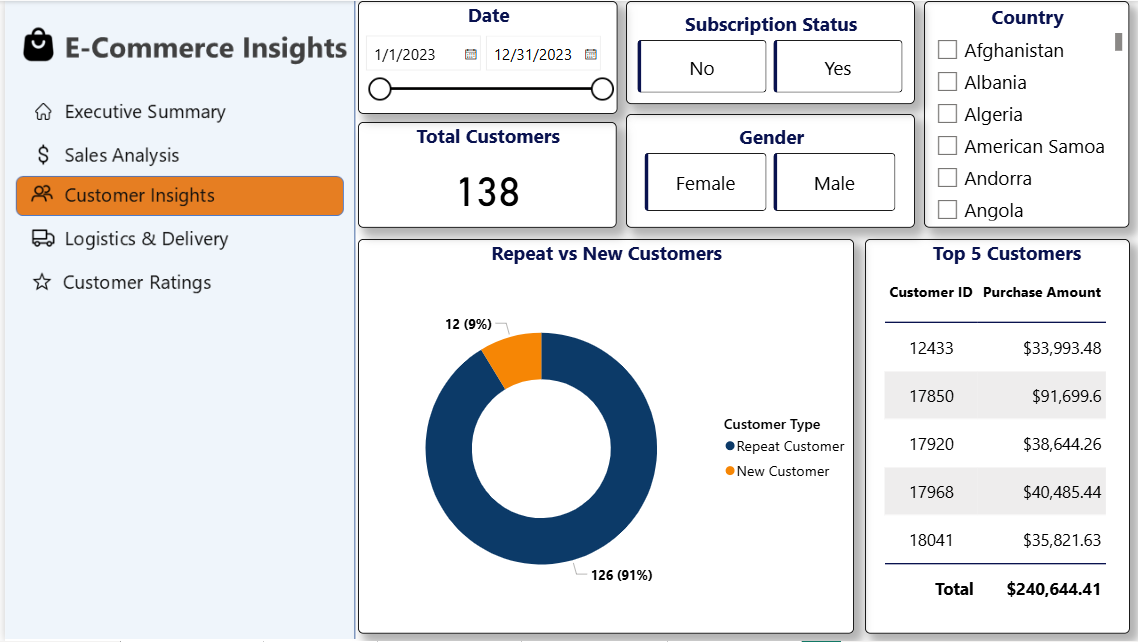

The page's visual inventory and layout, read from the dashboard file:
{"tool":"powerbi","page":{"name":"Customers Insights","canvas":[1280,720],"ordinal":2},"visuals":[{"type":"slicer","title":"Date ","fields":{"Values":["ecommerce sales.Date"]},"box":[397.3,0,291.8,127.3],"z":0},{"type":"tableEx","title":"Top 5 Customers","fields":{"Values":["ecommerce sales.customerid","ecommerce sales.total_revenue"]},"box":[967.5,267.5,297.5,443.8],"z":1000},{"type":"donutChart","title":"Repeat vs New Customers","fields":{"Y":["Customer Type.Customer Count"],"Category":["Customer Type.Type"]},"box":[397.5,267.5,557.5,443.8],"z":2000},{"type":"card","title":"Total Customers","fields":{"Values":["Count(ecommerce sales.customerid)"]},"box":[397.3,136.4,290.9,119.1],"z":3000},{"type":"actionButton","box":[18.8,146.2,353.8,50],"z":4000},{"type":"actionButton","box":[17.5,100,353.8,46.2],"z":5000},{"type":"actionButton","box":[19,242,353,50],"z":6000},{"type":"actionButton","box":[19,292,353,47],"z":7000},{"type":"slicer","title":"Country","fields":{"Values":["ecommerce sales.country"]},"box":[1033.8,0,231.2,255],"z":8000},{"type":"advancedSlicerVisual","title":"Gender","fields":{"Values":["ecommerce sales.gender"]},"box":[699.1,127.3,324.5,128.2],"z":9000},{"type":"advancedSlicerVisual","title":"Subscription Status","fields":{"Values":["ecommerce sales.subscription_status"]},"box":[699.1,0,324.5,116.4],"z":10000}]}

Visuals, with their boxes on the page's 1280x720 design canvas (x1, y1, x2, y2). These are canvas units, not pixel positions in the 1138x642 screenshot, which may show the page scaled, cropped or inside an application window:
"Date " slicer: bbox=(397, 0, 689, 127)
"Top 5 Customers" tableEx: bbox=(968, 268, 1265, 711)
"Repeat vs New Customers" donutChart: bbox=(398, 268, 955, 711)
"Total Customers" card: bbox=(397, 136, 688, 256)
actionButton: bbox=(19, 146, 373, 196)
actionButton: bbox=(18, 100, 371, 146)
actionButton: bbox=(19, 242, 372, 292)
actionButton: bbox=(19, 292, 372, 339)
"Country" slicer: bbox=(1034, 0, 1265, 255)
"Gender" advancedSlicerVisual: bbox=(699, 127, 1024, 256)
"Subscription Status" advancedSlicerVisual: bbox=(699, 0, 1024, 116)
